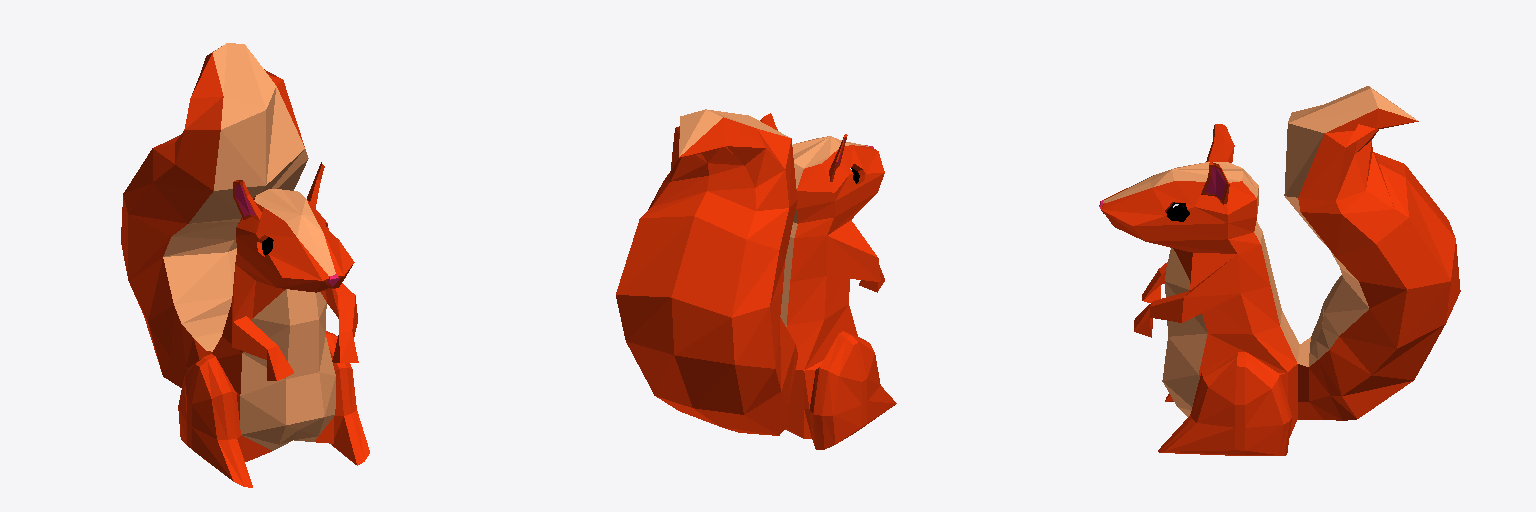
File: Squeelie.obj
3 views of the same model, side by side, from view 1: azimuth 30°, elevation 25°; view 2: azimuth 150°, elevation 25°; view 3: azimuth 270°, elevation 25° (orthographic).
Visible parts, largest first — view 1: Cylinder001; view 2: Cylinder001; view 3: Cylinder001.
Part boxes in pixels (bbox=[...]): Cylinder001: bbox=[121, 43, 369, 487]; Cylinder001: bbox=[616, 109, 896, 449]; Cylinder001: bbox=[1099, 86, 1460, 455].
Size of the model in its own units: 12.8 by 26.27 by 24.46.